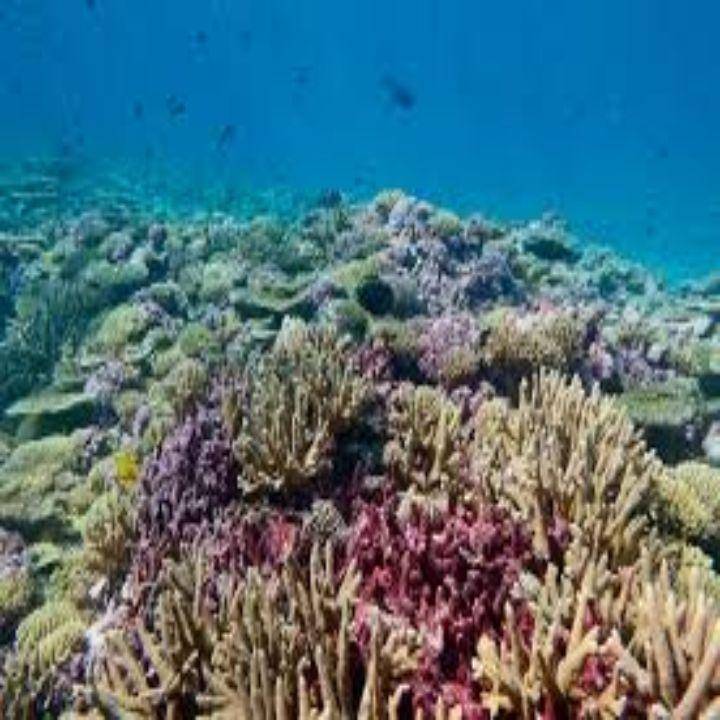Healthy Coral: (20, 254, 680, 674)
